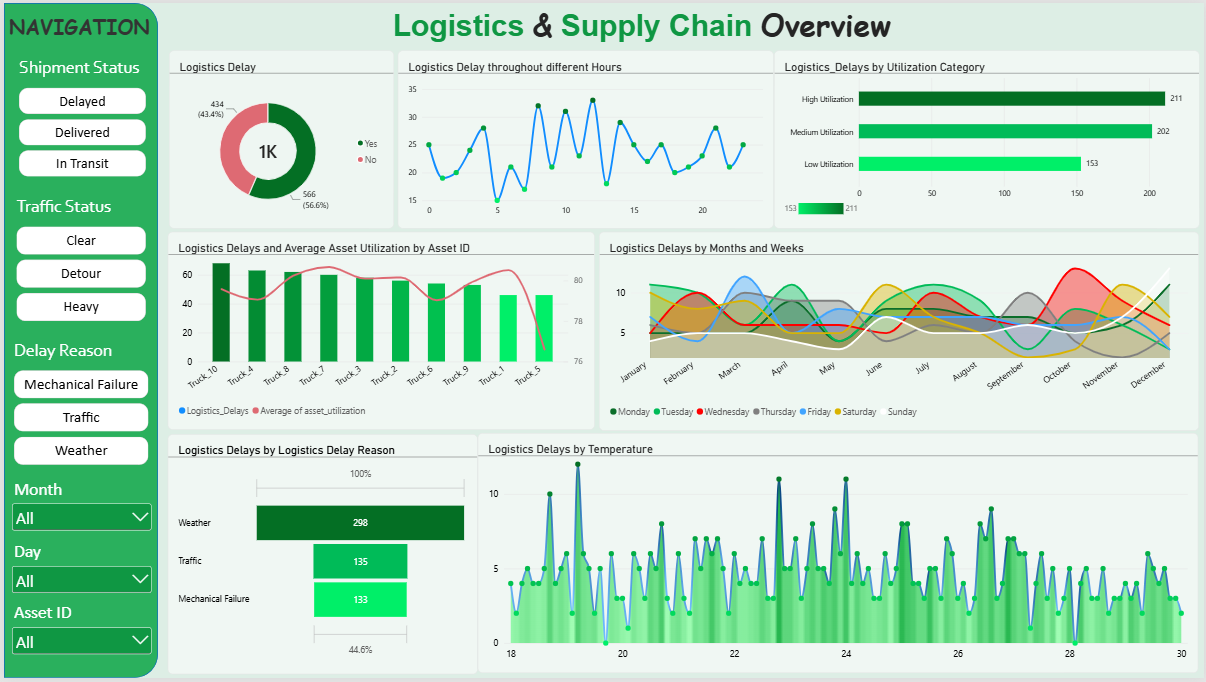

The dashboard page shown, as its layout file describes it:
{"tool":"powerbi","page":{"name":"Page 1","canvas":[1920,1080],"ordinal":0},"visuals":[{"type":"shape","box":[0,0,246.3,1079.6],"z":0},{"type":"advancedSlicerVisual","title":"Traffic Status","fields":{"Values":["logistics.traffic_status"]},"box":[20,307.5,207.5,202.5],"z":1000},{"type":"slicer","fields":{"Values":["logistics.month_name"]},"box":[7.4,759.3,233.3,96.3],"z":2000},{"type":"slicer","fields":{"Values":["logistics.day_of_week"]},"box":[7.4,859.3,233.3,94.4],"z":3000},{"type":"slicer","fields":{"Values":["logistics.asset_id"]},"box":[7.4,957.4,233.3,100],"z":4000},{"type":"advancedSlicerVisual","fields":{"Values":["logistics.shipment_status"]},"box":[23.3,86.7,203.3,193.3],"z":5000},{"type":"advancedSlicerVisual","fields":{"Values":["logistics.logistics_delay_reason"]},"box":[16.7,538.3,215,201.7],"z":6000},{"type":"textbox","box":[7.4,14.8,287,59.3],"z":7000},{"type":"textbox","box":[622.5,0,810,75],"z":8000},{"type":"lineClusteredColumnComboChart","title":"Logistics Delays and Average Asset Utilization by Asset ID","fields":{"Category":["logistics.asset_id"],"Y":["logistics.Logistics_Delays"],"Y2":["Avg(logistics.asset_utilization)"]},"box":[261.7,365,683.3,316.7],"z":9000},{"type":"areaChart","title":"Logistics Delays by Months and Weeks","fields":{"Category":["logistics.month_name"],"Y":["logistics.Logistics_Delays"],"Series":["logistics.day_of_week"]},"box":[952,366,960,318],"z":10000},{"type":"donutChart","title":"Logistics Delay","fields":{"Category":["logistics.logistics_delay"],"Y":["CountNonNull(logistics.logistics_delay)"]},"box":[263.3,75,360,285],"z":11000},{"type":"areaChart","title":"Logistics Delay throughout different Hours","fields":{"Category":["logistics.hour"],"Y":["logistics.Logistics_Delays"]},"box":[630,75,601.7,285],"z":12000},{"type":"clusteredBarChart","title":"Logistics_Delays by Utilization Category","fields":{"Category":["logistics.asset_utilization_category"],"Y":["logistics.Logistics_Delays"]},"box":[1232,75,681,285],"z":13000},{"type":"funnel","title":"Logistics Delays by Logistics Delay Reason","fields":{"Category":["logistics.logistics_delay_reason"],"Y":["logistics.Logistics_Delays"]},"box":[261.8,689.1,496.4,383.6],"z":14000},{"type":"areaChart","title":"Logistics Delays by Temperature","fields":{"Category":["logistics.temperature"],"Y":["logistics.Logistics_Delays"]},"box":[758.6,688.6,1152.9,384.3],"z":15000}]}

Visuals, with their boxes in screenshot pixels (x1, y1, x2, y2), scaled from the page's 1920x1080 canvas onto the 1206x682 screenshot:
shape: bbox(0, 0, 155, 681)
"Traffic Status" advancedSlicerVisual: bbox(13, 194, 143, 322)
slicer - logistics.month_name: bbox(5, 479, 151, 540)
slicer - logistics.day_of_week: bbox(5, 543, 151, 602)
slicer - logistics.asset_id: bbox(5, 605, 151, 668)
advancedSlicerVisual - logistics.shipment_status: bbox(15, 55, 142, 177)
advancedSlicerVisual - logistics.logistics_delay_reason: bbox(10, 340, 146, 467)
textbox: bbox(5, 9, 185, 47)
textbox: bbox(391, 0, 900, 47)
"Logistics Delays and Average Asset Utilization by Asset ID" lineClusteredColumnComboChart: bbox(164, 230, 594, 430)
"Logistics Delays by Months and Weeks" areaChart: bbox(598, 231, 1201, 432)
"Logistics Delay" donutChart: bbox(165, 47, 392, 227)
"Logistics Delay throughout different Hours" areaChart: bbox(396, 47, 774, 227)
"Logistics_Delays by Utilization Category" clusteredBarChart: bbox(774, 47, 1202, 227)
"Logistics Delays by Logistics Delay Reason" funnel: bbox(164, 435, 476, 677)
"Logistics Delays by Temperature" areaChart: bbox(476, 435, 1201, 678)
